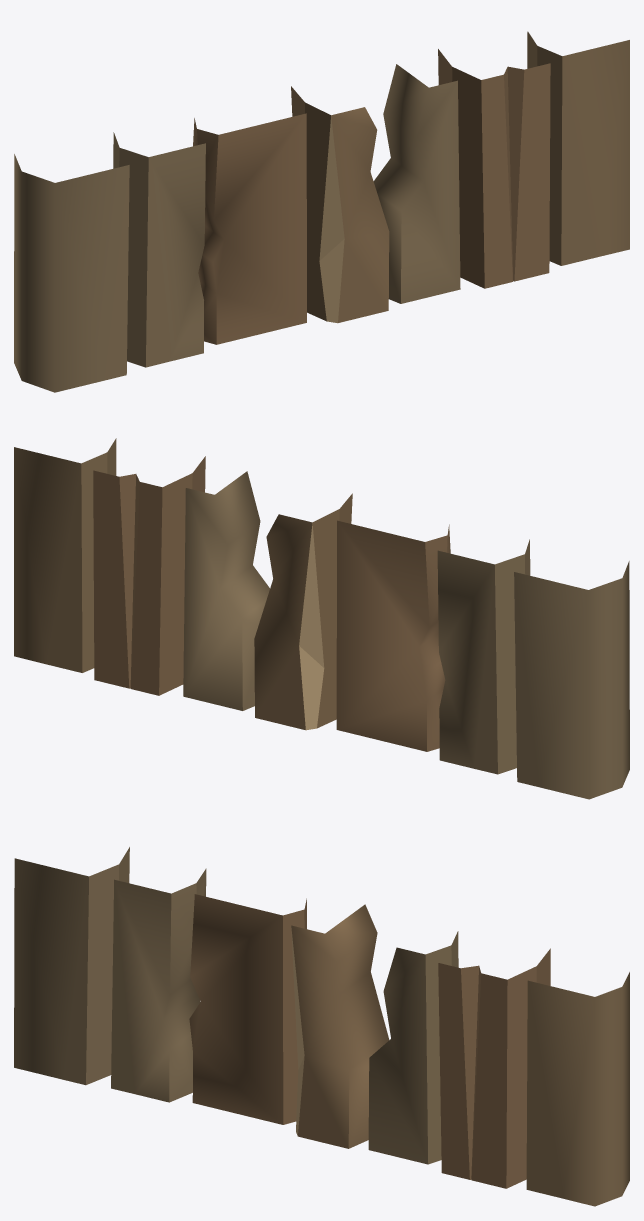
Rendered from rpgpp_av_wall_02_3x1_a.gltf.
3 renders of one model, top to bottom at view 1: azimuth 30°, elevation 25°; view 2: azimuth 150°, elevation 25°; view 3: azimuth 330°, elevation 25°, orthographic.
Visible parts, largest first — view 1: rpgpp_av_wall_02_3x1_a; view 2: rpgpp_av_wall_02_3x1_a; view 3: rpgpp_av_wall_02_3x1_a.
Part boxes in pixels (left/top/right/bottom): rpgpp_av_wall_02_3x1_a: left=14, top=31, right=629, bottom=392; rpgpp_av_wall_02_3x1_a: left=14, top=438, right=629, bottom=799; rpgpp_av_wall_02_3x1_a: left=14, top=847, right=629, bottom=1206.
Size of the model in its own units: 0.03 by 0.01 by 0.00374.
Materials: 1 (1 with a texture image).
